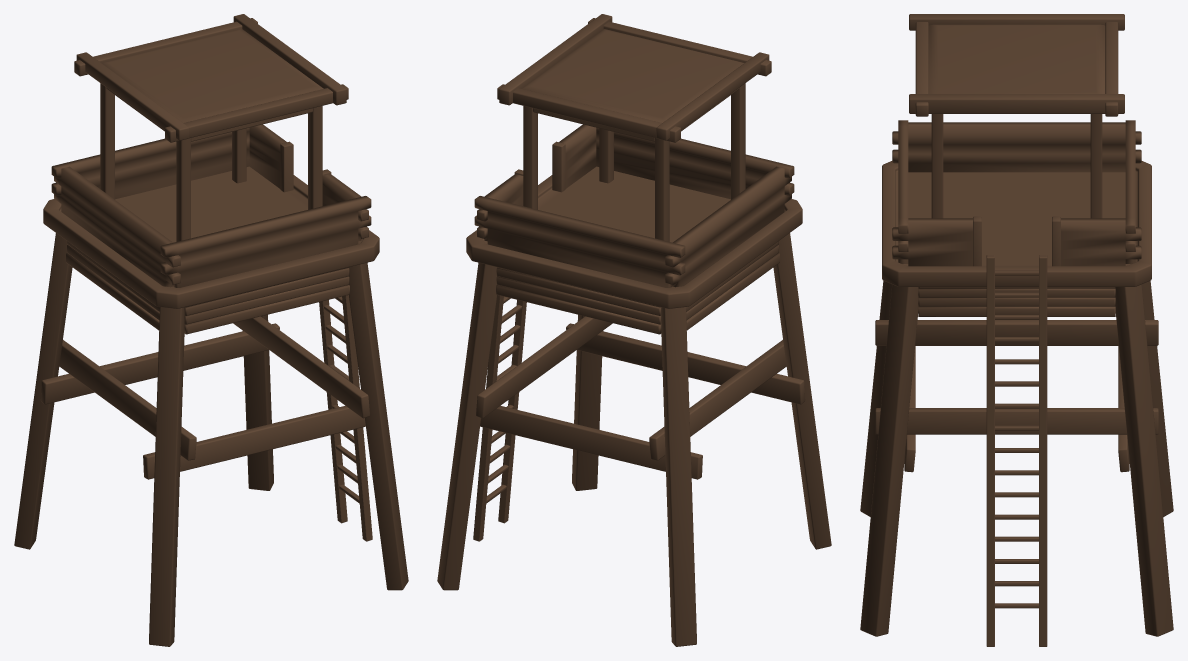
Rendered from WatchTower.fbx.
3 renders of one model, left to right at view 1: azimuth 30°, elevation 25°; view 2: azimuth 150°, elevation 25°; view 3: azimuth 270°, elevation 25°, orthographic. The views are drawn at different scales.
Visible parts, largest first — view 1: archerTower, archerTowerUpper; view 2: archerTower, archerTowerUpper; view 3: archerTower, archerTowerUpper.
Boxes of the visible parts, <box> form: archerTower: <box>14,124,408,646</box>; archerTowerUpper: <box>74,14,348,241</box>; archerTower: <box>437,124,831,646</box>; archerTowerUpper: <box>497,14,771,241</box>; archerTower: <box>860,120,1173,646</box>; archerTowerUpper: <box>909,14,1124,218</box>.
Size of the model in its own units: 495 by 845 by 465.
